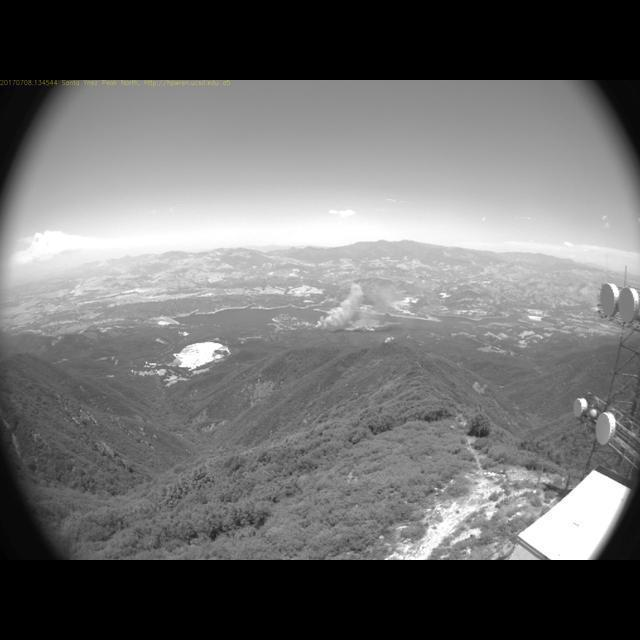Smoke: (302, 278, 385, 334)
